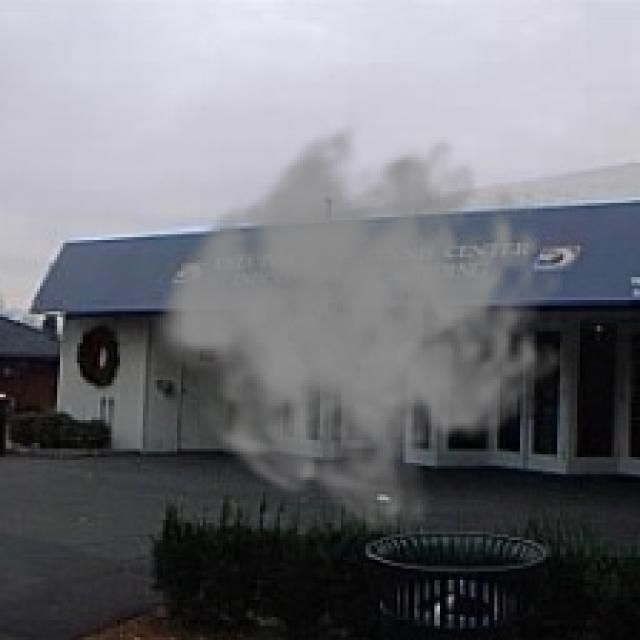smoke: (151, 112, 566, 537)
